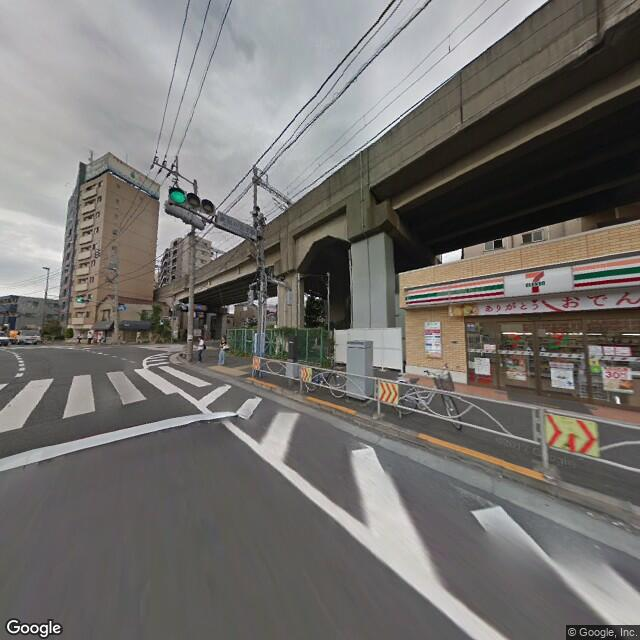7-eleven: (403, 251, 639, 312)
